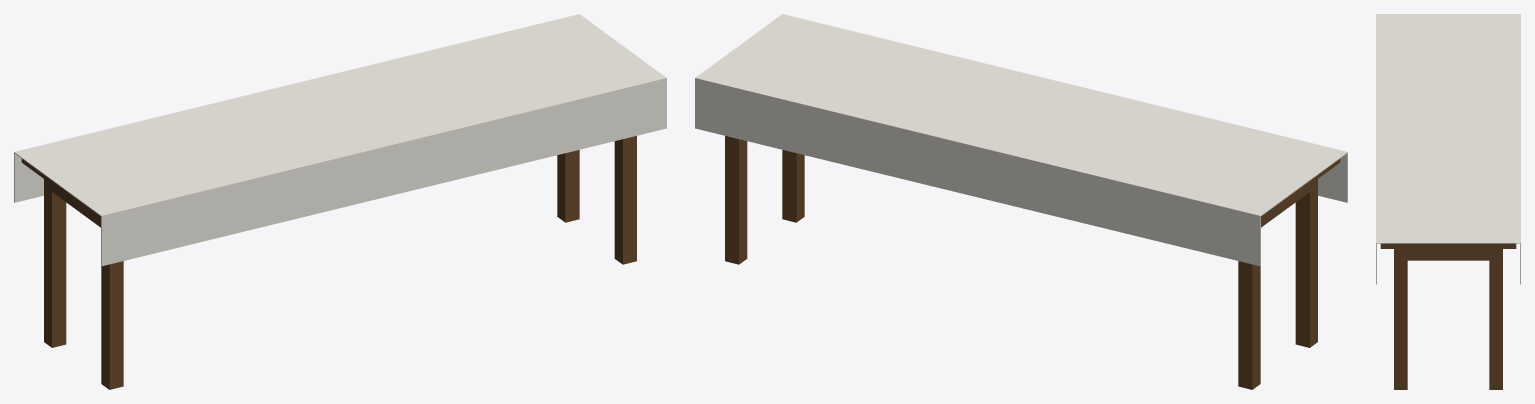
The picture shows the model from 3 angles, left to right: view 1: azimuth 30°, elevation 25°; view 2: azimuth 150°, elevation 25°; view 3: azimuth 270°, elevation 25°; orthographic projection. The views are drawn at different scales.
Visible parts, largest first — view 1: parametric-variant-table-1st-pub-82cfcd9b3e8a068fa71e; view 2: parametric-variant-table-1st-pub-82cfcd9b3e8a068fa71e; view 3: parametric-variant-table-1st-pub-82cfcd9b3e8a068fa71e.
Part boxes in pixels (x1,y1,x2,y2): parametric-variant-table-1st-pub-82cfcd9b3e8a068fa71e: (14,14,666,389); parametric-variant-table-1st-pub-82cfcd9b3e8a068fa71e: (695,14,1347,389); parametric-variant-table-1st-pub-82cfcd9b3e8a068fa71e: (1376,14,1520,389).
Bounding box in the file's own units: 2.39 × 0.754 × 0.64.
